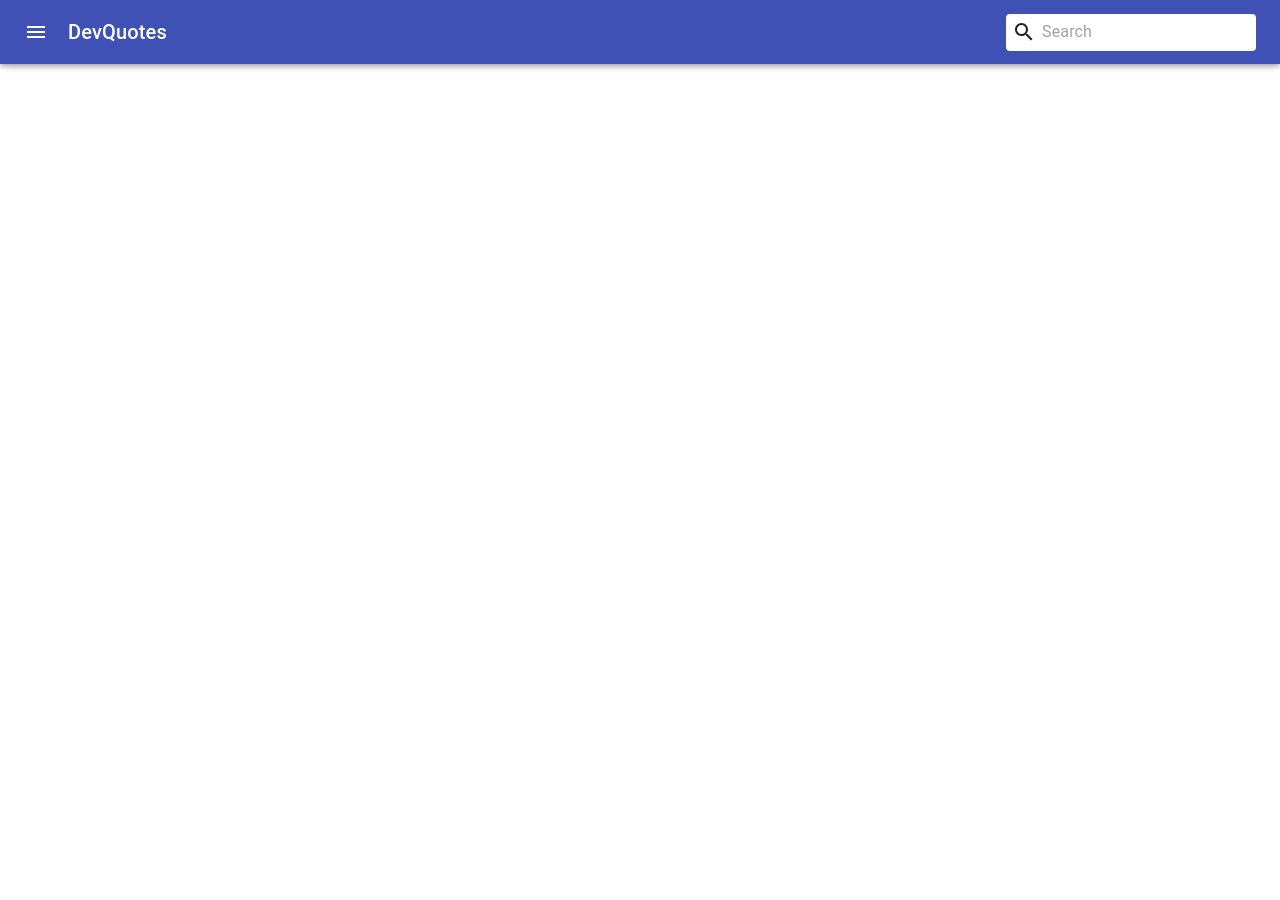
Test: renders nav items for anonymous user
Click the button named "open main navigation".
click(36, 32)  # box [12, 8, 60, 56]
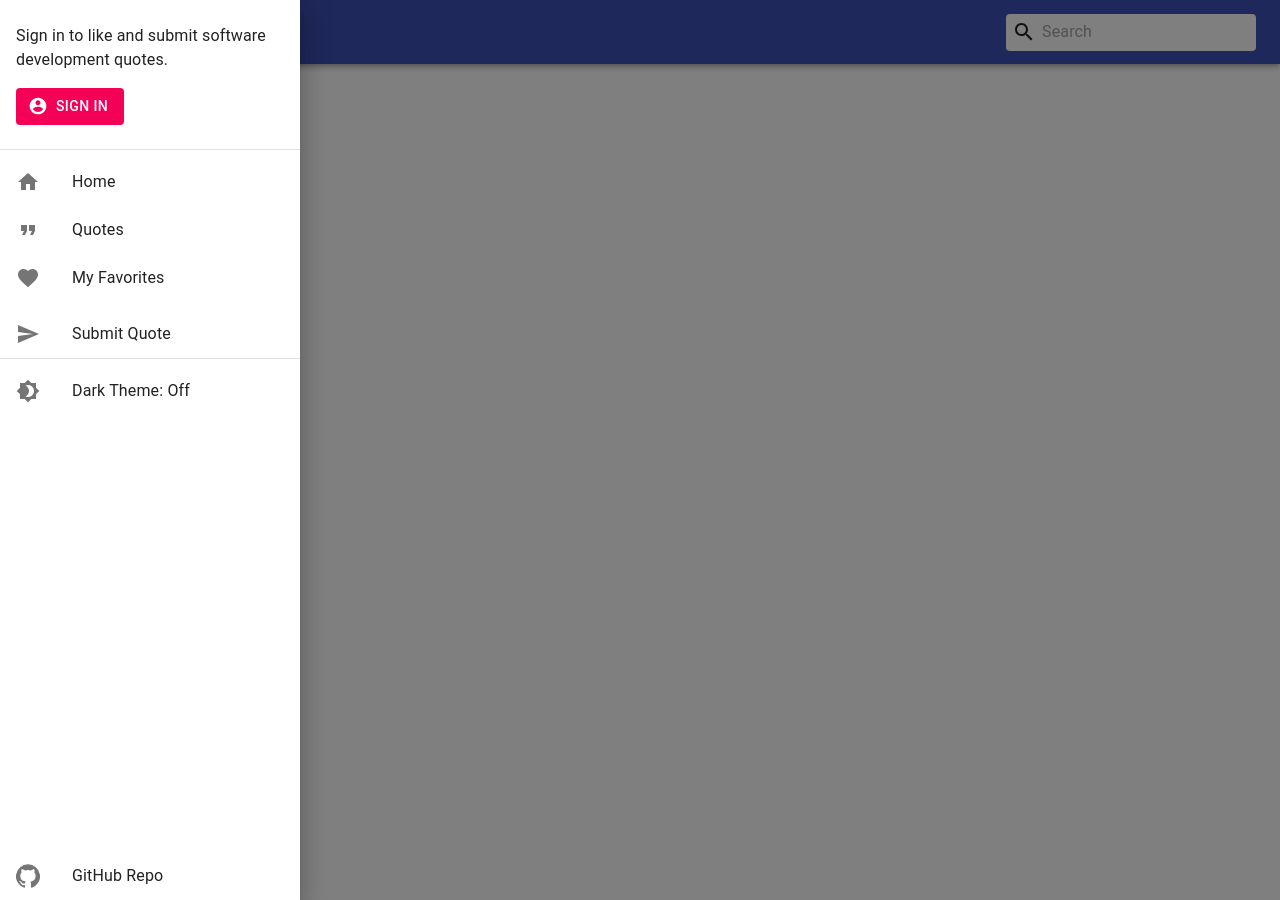
Expected: the button "Home" is shown, [16, 170, 116, 194]
Expected: the button "Quotes" is shown, [16, 218, 124, 242]
Expected: the button "My Favorites" is shown, [16, 266, 164, 290]
